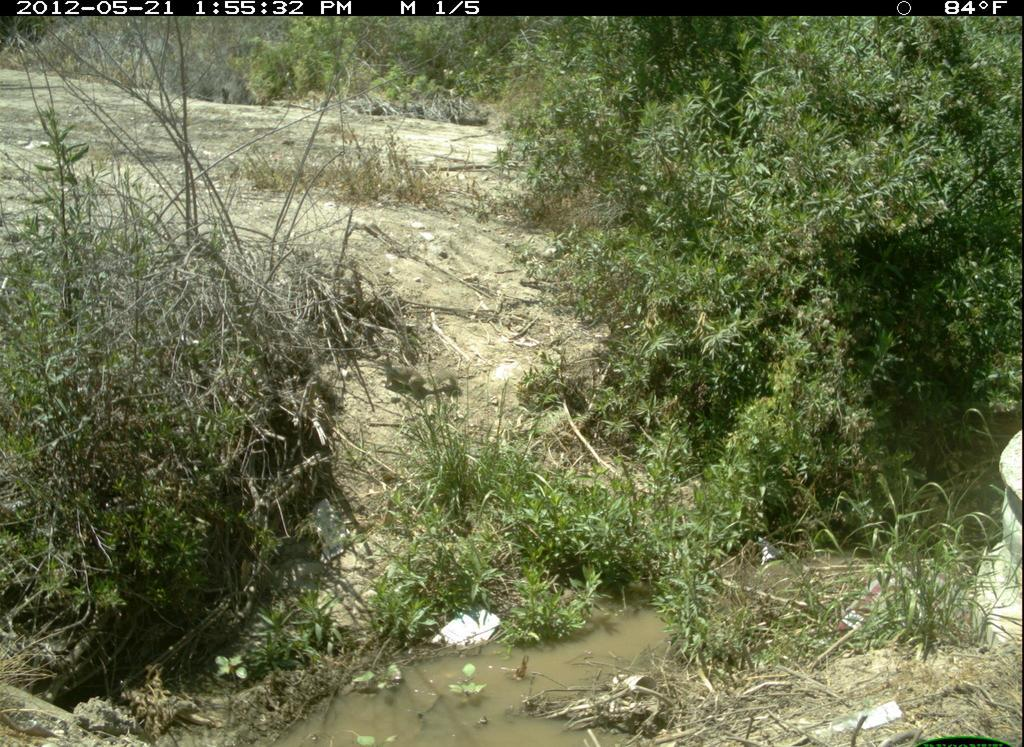squirrel: (374, 349, 464, 408)
